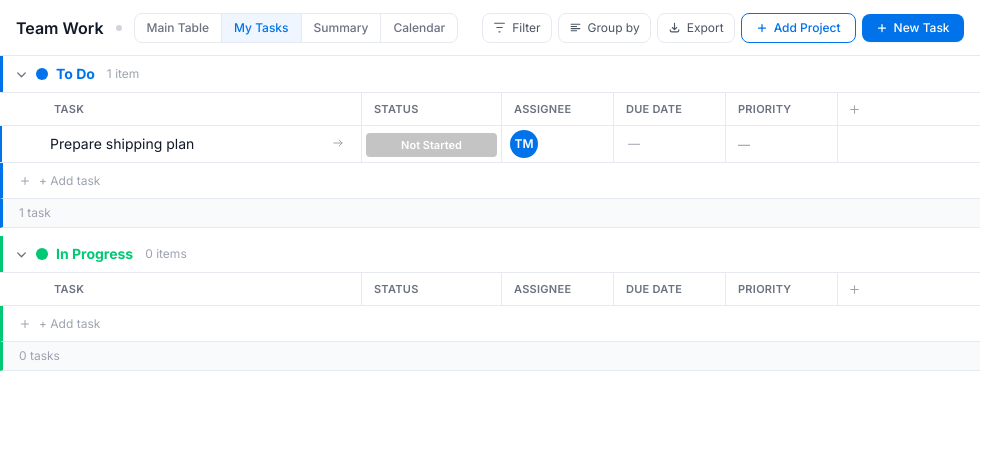
Test case: moving tasks between projects through the board UI › lets My Tasks move an unprojected task into an empty project hidden by the view
expect the text "Empty Project" is not shown: met
Click the button named "Move \"Prepare shipping plan\" to project": (338, 143) [327,132,349,154]
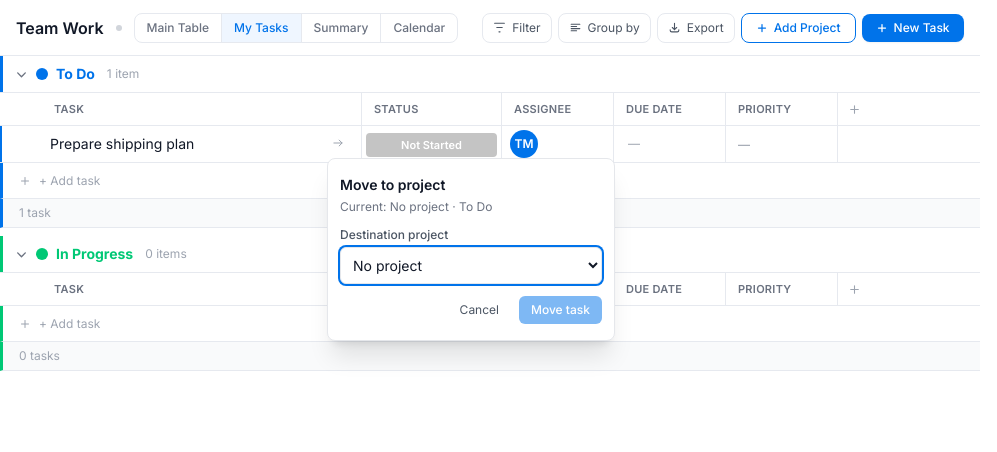
expect the dropdown labelled "Destination project" shows "No project": met
expect the button "Move task" is disabled: met, box [519,296,602,324]
Select "Empty Project" in the dropdown labelled "Destination project": (471, 266) [340,247,602,284]
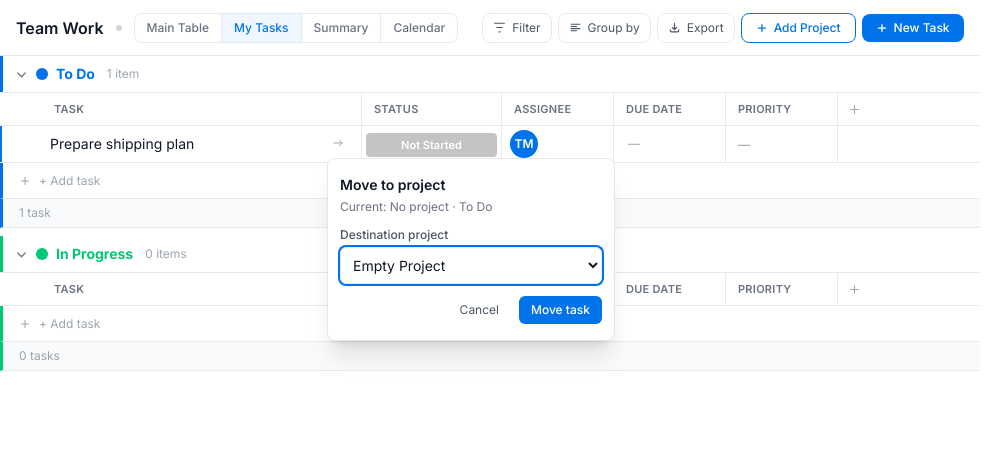
Click the button "Move task": (560, 310) [519,296,602,324]
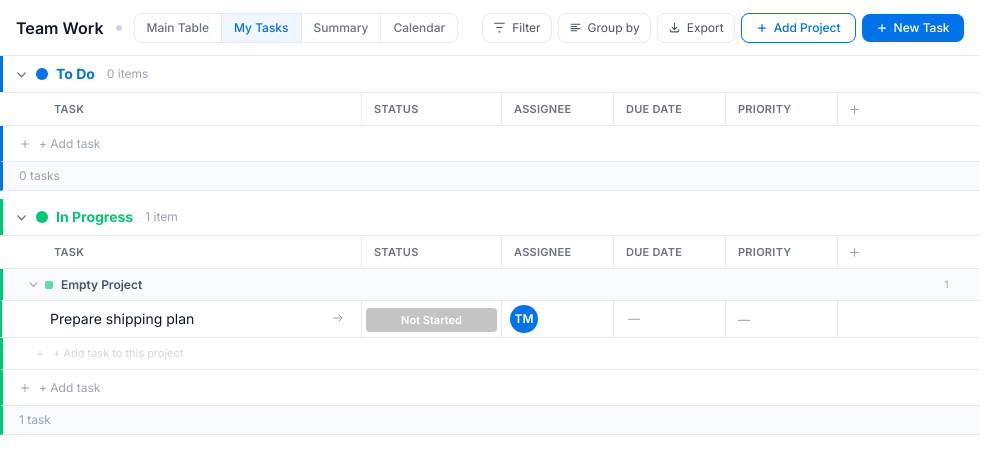
expect the button "Prepare shipping plan" is shown: met, box [50,309,323,329]
expect the label "Destination project" is gone: met
expect the text "Empty Project" is shown: met, box [61,276,142,292]
